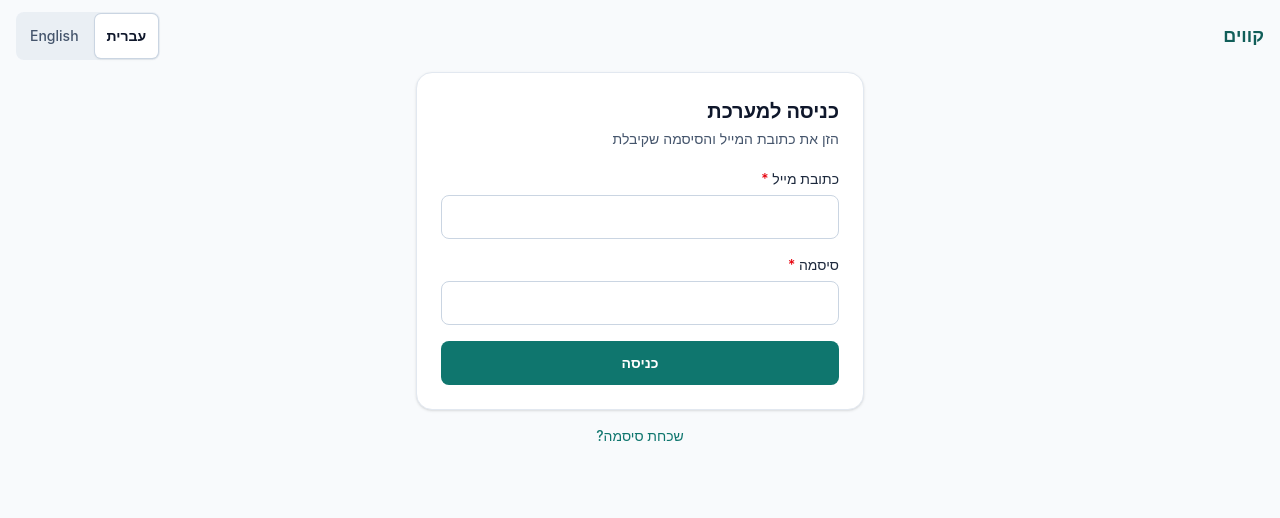
Test: Login › shows translated copy for a wrong password, not the server message
Type "worker@example.com" into the field labelled "כתובת מייל *" at (640, 217), box [441,195,839,239]
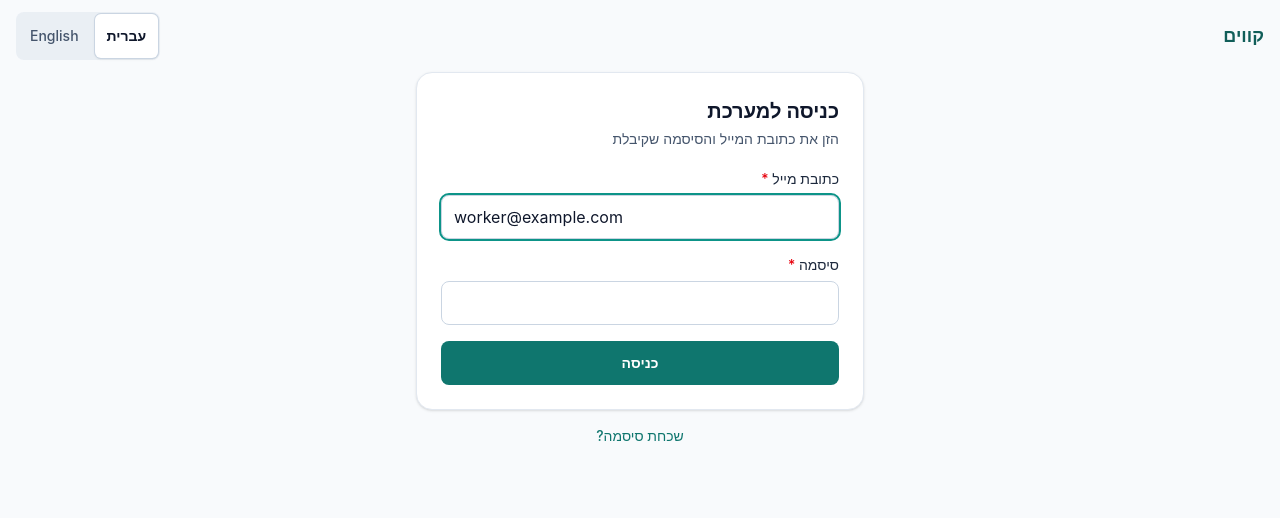
Type "wrong" into the password field labelled "סיסמה *" at (640, 303), box [441,281,839,325]
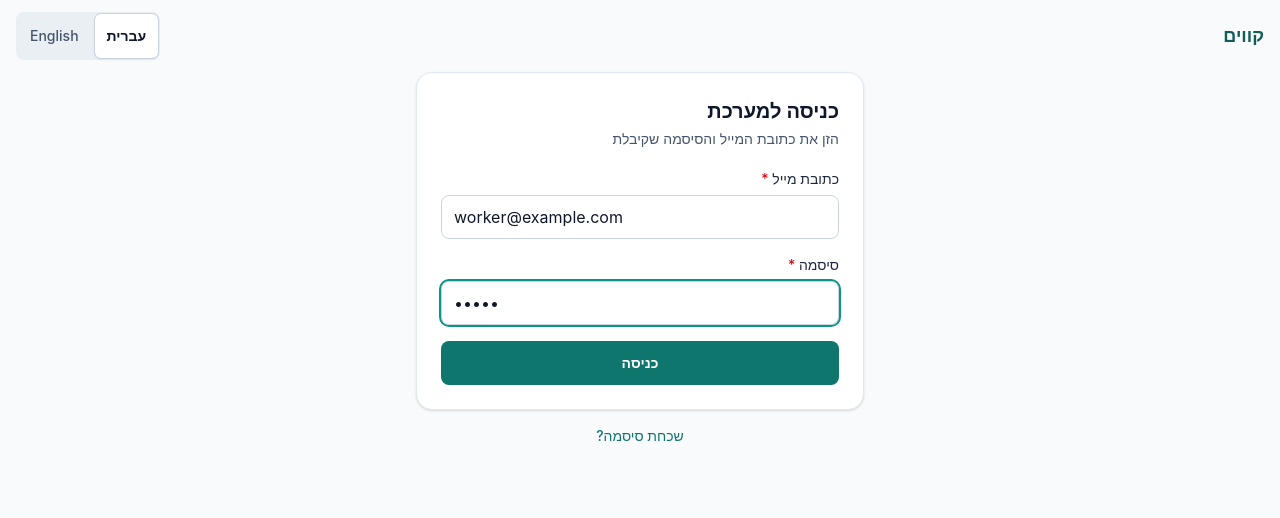
Click the button "כניסה" at (640, 363), box [441,341,839,385]
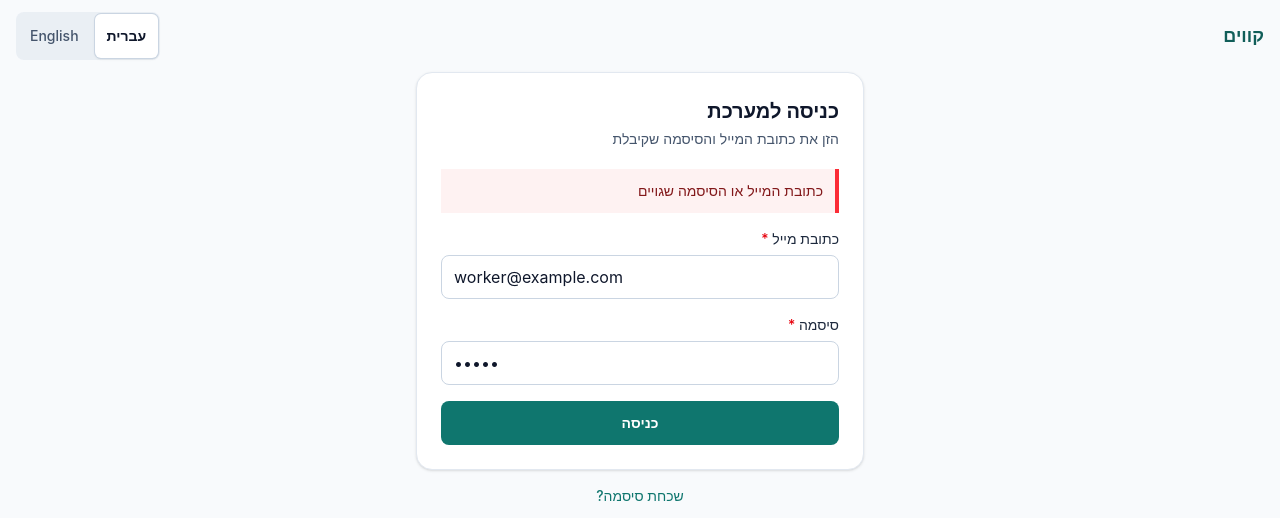
expect the message does not show "incorrect": met, box [441,169,839,213]
expect the message reads "כתובת המייל או הסיסמה שגויים": met, box [638,182,823,199]
